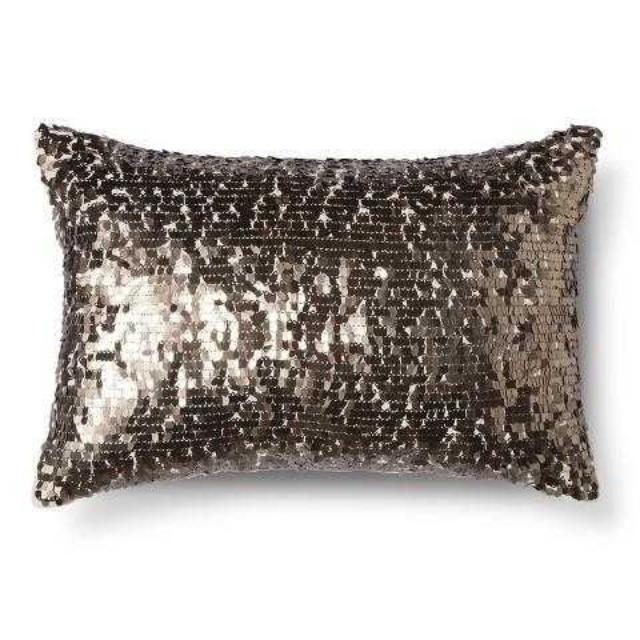pillow: (32, 119, 602, 508)
